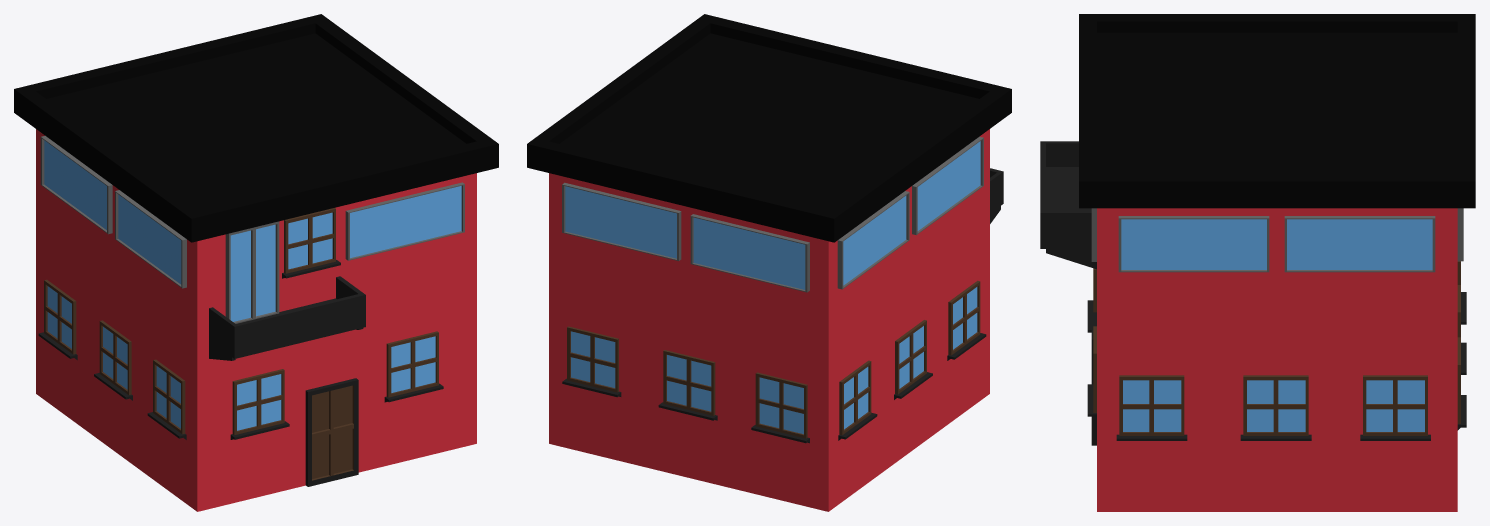
The model's file is cityasset_house_11.fbx.
3 renders of one model, left to right at view 1: azimuth 30°, elevation 25°; view 2: azimuth 150°, elevation 25°; view 3: azimuth 270°, elevation 25°, orthographic. The views are drawn at different scales.
Parts seen in each view (by area): view 1: Cube.001, Cube.003, Cube.005, Cube.002, Cube.004, Cube.016, Cube.017, Cube.019, Cube.018, Cube.011, Cube.026, Cube.028 (+1 smaller); view 2: Cube.001, Cube.015, Cube.014, Cube.016, Cube.017, Cube.024, Cube.025, Cube.023, Cube.026, Cube.028, Cube.027, Cube.003; view 3: Cube.001, Cube.012, Cube.013, Cube.003, Cube.021, Cube.020, Cube.022, Cube.019, Cube.023.
Part boxes in pixels (<box>): Cube.001: <box>14,14,498,511</box>; Cube.003: <box>209,276,365,360</box>; Cube.005: <box>345,182,464,260</box>; Cube.002: <box>305,378,358,486</box>; Cube.004: <box>225,221,279,323</box>; Cube.016: <box>40,135,112,234</box>; Cube.017: <box>115,190,186,288</box>; Cube.019: <box>384,331,443,402</box>; Cube.018: <box>230,369,289,439</box>; Cube.011: <box>282,208,340,278</box>; Cube.026: <box>38,279,77,360</box>; Cube.028: <box>147,359,186,439</box>; Cube.001: <box>527,14,1011,511</box>; Cube.015: <box>690,214,809,292</box>; Cube.014: <box>562,182,681,261</box>; Cube.016: <box>837,191,909,289</box>; Cube.017: <box>912,136,983,235</box>; Cube.024: <box>658,350,717,420</box>; Cube.025: <box>751,372,809,443</box>; Cube.023: <box>562,326,621,397</box>; Cube.026: <box>838,360,877,440</box>; Cube.028: <box>947,280,986,360</box>; Cube.027: <box>894,320,932,399</box>; Cube.003: <box>990,168,1003,223</box>; Cube.001: <box>1079,14,1475,511</box>; Cube.012: <box>1118,216,1269,272</box>; Cube.013: <box>1284,216,1435,272</box>; Cube.003: <box>1040,141,1096,269</box>; Cube.021: <box>1240,375,1311,440</box>; Cube.020: <box>1116,375,1187,440</box>; Cube.022: <box>1360,375,1430,440</box>; Cube.019: <box>1087,326,1096,419</box>; Cube.023: <box>1457,337,1466,430</box>.
Bounding box in the file's own units: 220 × 207 × 242.
